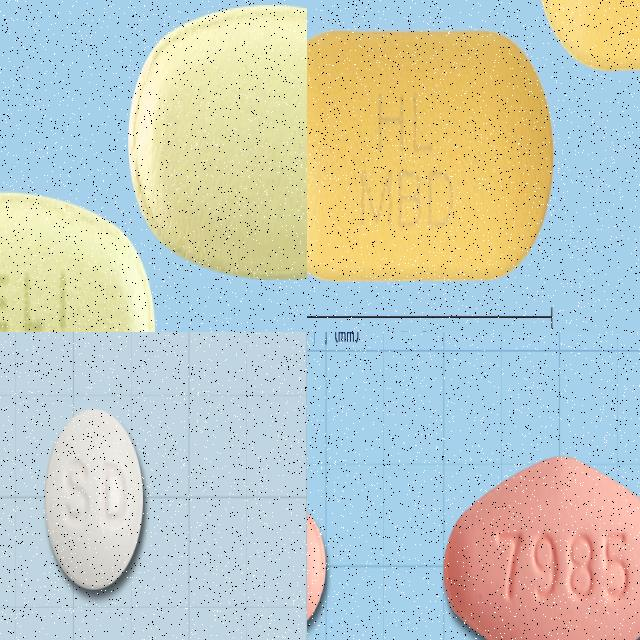Harvoni: (443, 454, 640, 640)
Heliclo Tab: (127, 0, 307, 284), (0, 187, 158, 332)
Levarox: (44, 408, 144, 593)
Mabid -500mg: (307, 33, 553, 283)
